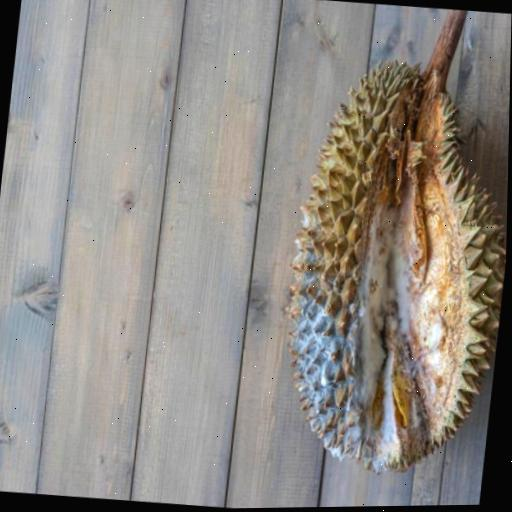mold: (252, 0, 512, 507)
